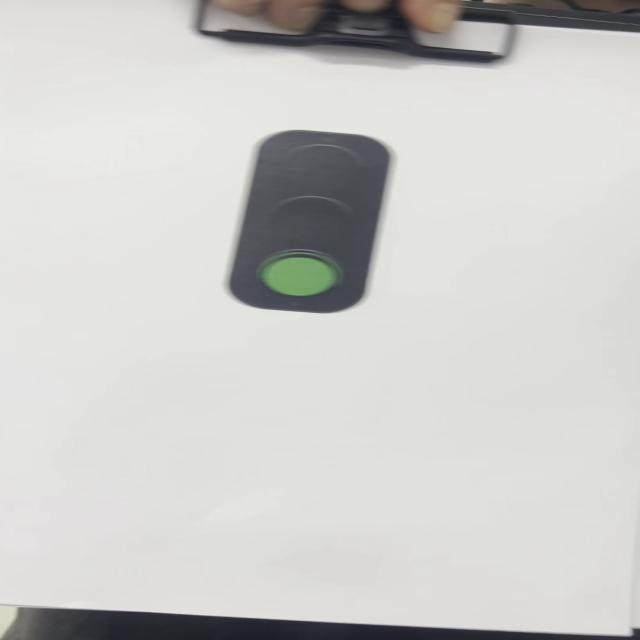green: (235, 125, 390, 313)
